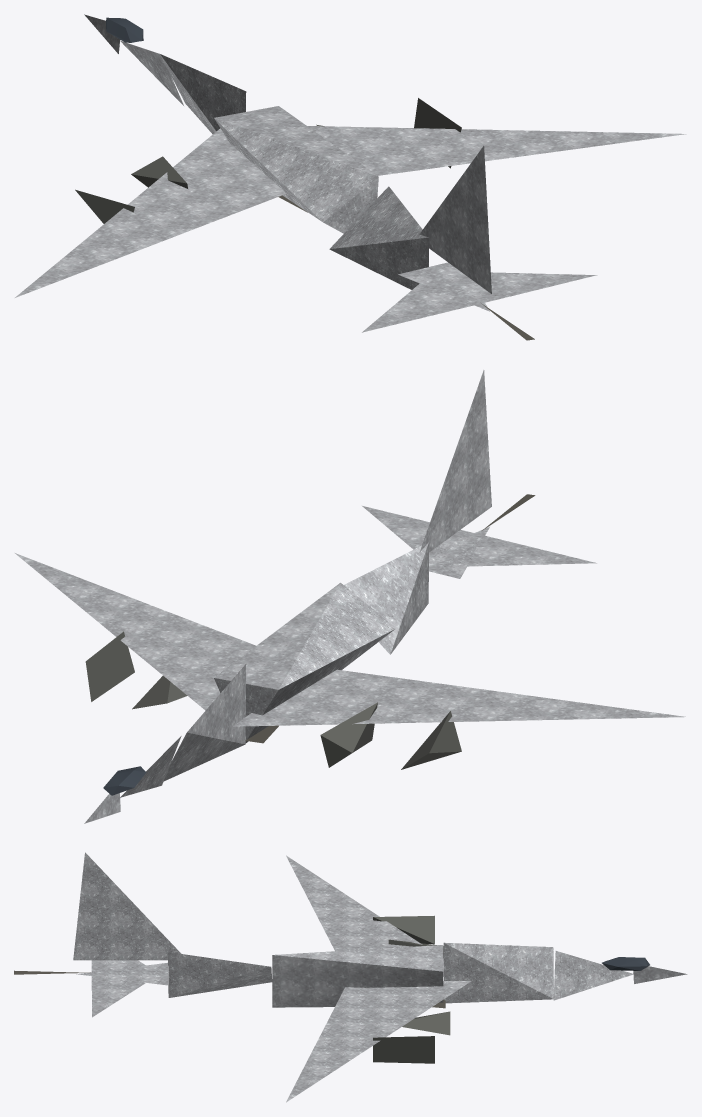
File: mpa_e1_us_maritime_LOD2.glb
3 renders of one model, top to bottom at view 1: azimuth 30°, elevation 25°; view 2: azimuth 150°, elevation 25°; view 3: azimuth 270°, elevation 25°, orthographic. The views are drawn at different scales.
Parts seen in each view (by area): view 1: mpa_e1_us_maritime_LOD2_body, mpa_e1_us_maritime_LOD2_gun, mpa_e1_us_maritime_LOD2_glass; view 2: mpa_e1_us_maritime_LOD2_body, mpa_e1_us_maritime_LOD2_gun, mpa_e1_us_maritime_LOD2_glass; view 3: mpa_e1_us_maritime_LOD2_body, mpa_e1_us_maritime_LOD2_gun, mpa_e1_us_maritime_LOD2_glass.
Boxes of the visible parts, left/top/right/bottom form: mpa_e1_us_maritime_LOD2_body: left=15, top=14, right=686, bottom=332; mpa_e1_us_maritime_LOD2_gun: left=75, top=98, right=461, bottom=223; mpa_e1_us_maritime_LOD2_glass: left=106, top=17, right=143, bottom=42; mpa_e1_us_maritime_LOD2_body: left=15, top=370, right=685, bottom=823; mpa_e1_us_maritime_LOD2_gun: left=85, top=631, right=461, bottom=769; mpa_e1_us_maritime_LOD2_glass: left=103, top=766, right=146, bottom=795; mpa_e1_us_maritime_LOD2_body: left=73, top=852, right=687, bottom=1102; mpa_e1_us_maritime_LOD2_gun: left=373, top=915, right=450, bottom=1063; mpa_e1_us_maritime_LOD2_glass: left=602, top=957, right=649, bottom=970.
Bounding box in the file's own units: 37.93 × 10.92 × 43.6.
4 materials, 1 textured.
